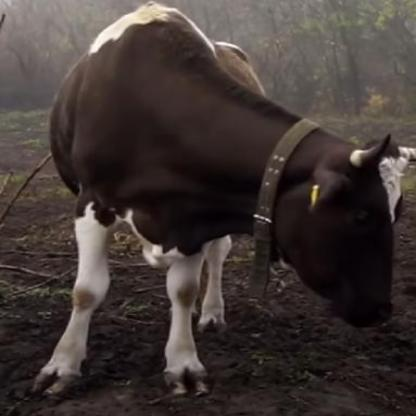cow: (32, 5, 402, 398)
